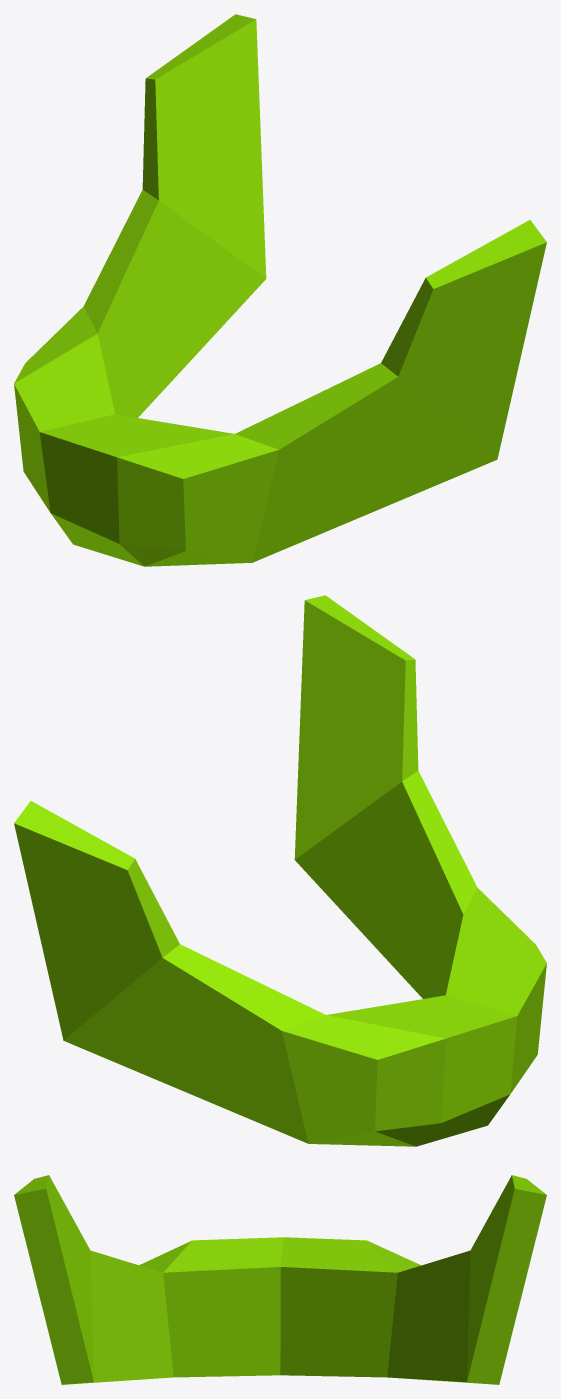
File: Skull_A2_Big.fbx
3 renders of one model, top to bottom at view 1: azimuth 30°, elevation 25°; view 2: azimuth 150°, elevation 25°; view 3: azimuth 270°, elevation 25°, orthographic. The views are drawn at different scales.
Visible parts, largest first — view 1: Skull_A2_Big; view 2: Skull_A2_Big; view 3: Skull_A2_Big.
Part boxes in pixels (x1,y1,x2,y2): Skull_A2_Big: (14, 14, 546, 566); Skull_A2_Big: (14, 595, 546, 1146); Skull_A2_Big: (14, 1175, 546, 1384).
Size of the model in its own units: 76.62 by 75.15 by 118.
